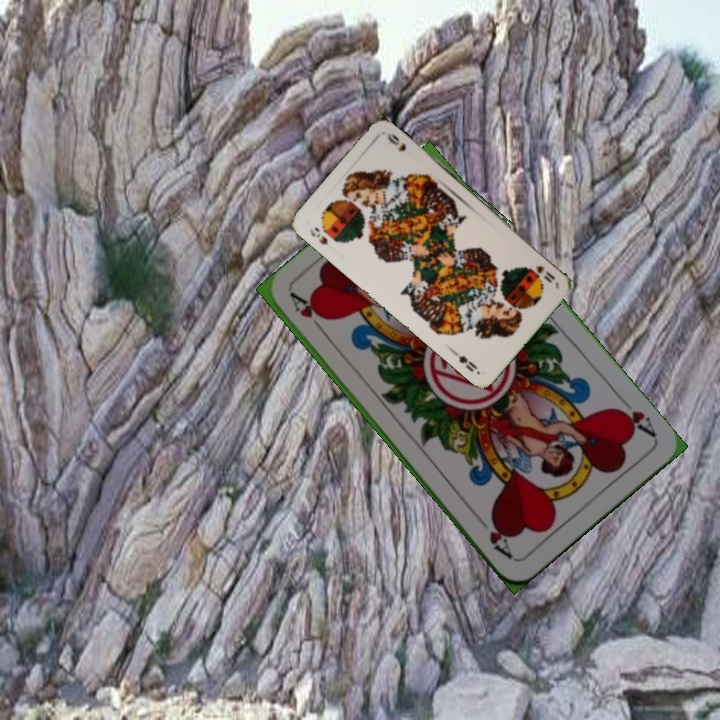HA: (286, 289, 330, 339), (609, 402, 659, 440)
SO: (306, 223, 330, 248), (531, 261, 558, 283)
